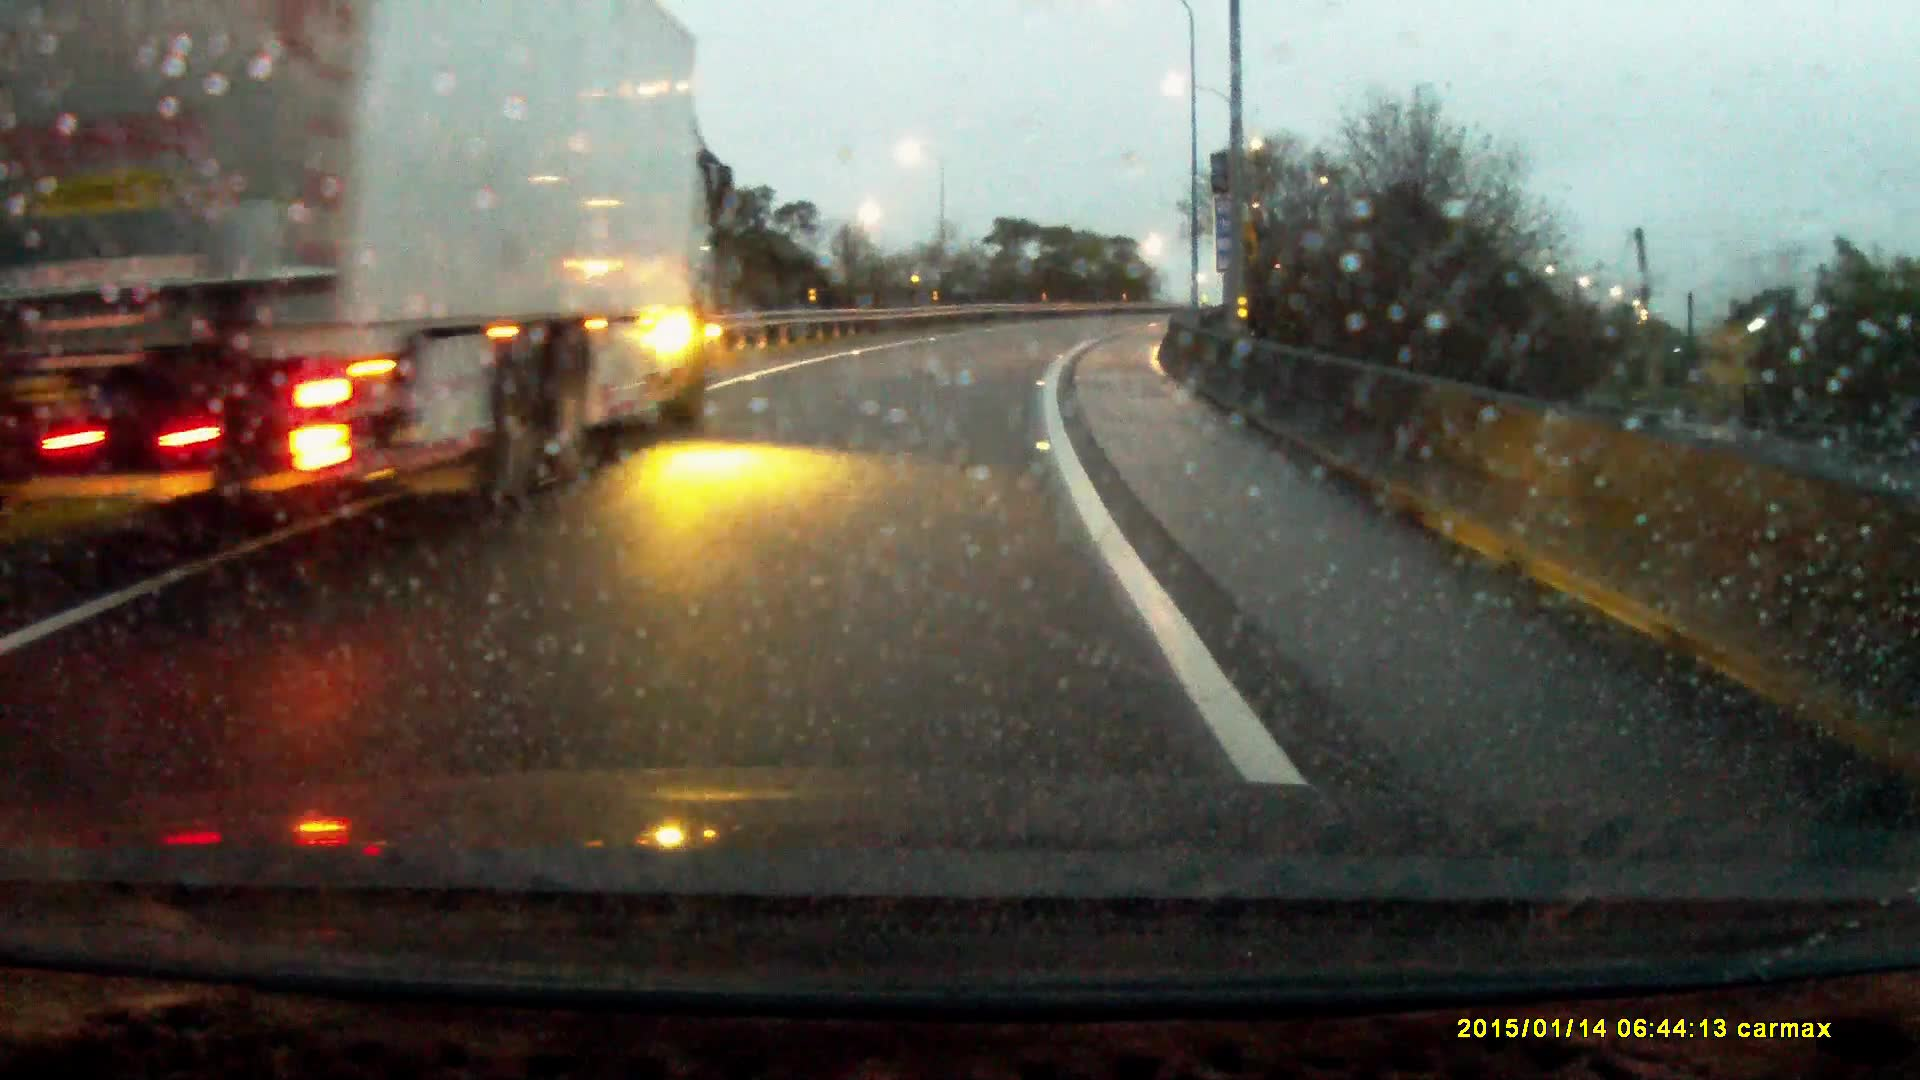vehicle: (22, 1, 729, 556)
